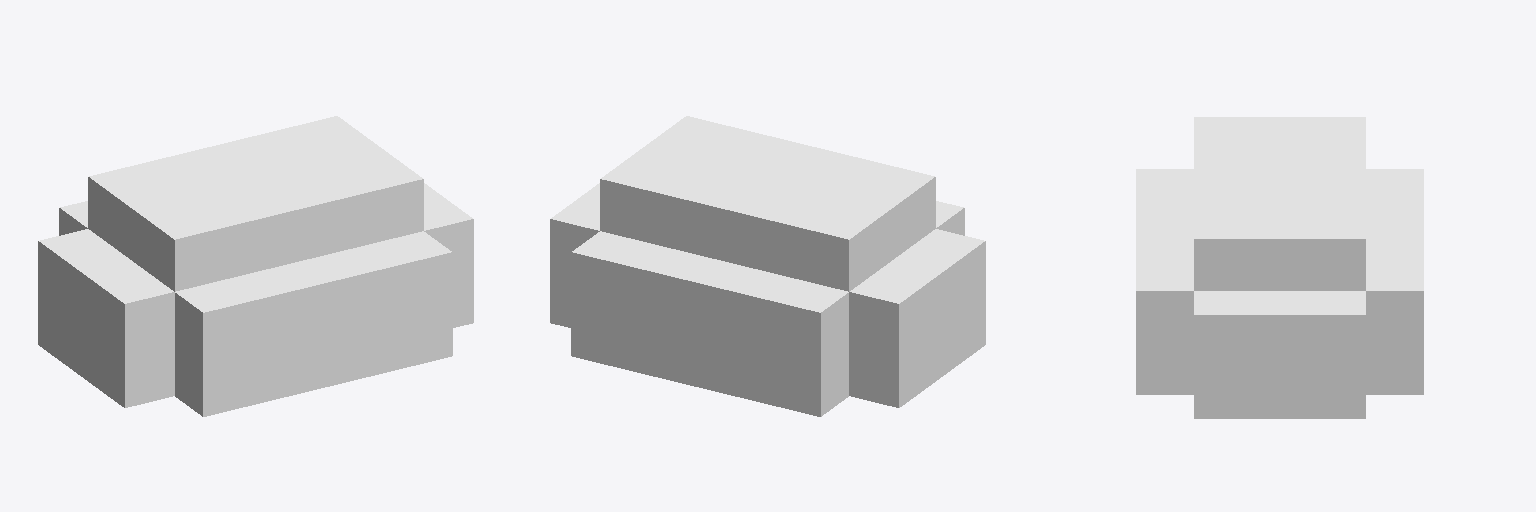
File: bombeman-2-footr.obj
3 renders of one model, left to right at view 1: azimuth 30°, elevation 25°; view 2: azimuth 150°, elevation 25°; view 3: azimuth 270°, elevation 25°, orthographic.
Parts seen in each view (by area): view 1: footr; view 2: footr; view 3: footr.
Boxes of the visible parts, x1,y1,x2,y2 form: footr: [38, 116, 473, 416]; footr: [550, 116, 985, 416]; footr: [1136, 117, 1423, 418].
Size of the model in its own units: 0.7 by 0.3 by 0.5.